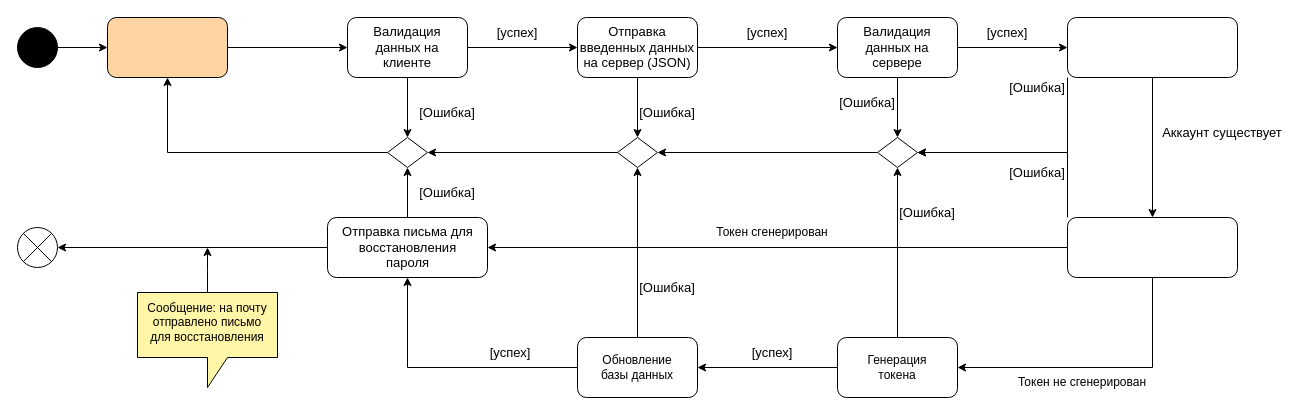
Image size: 1305x415. Some labels were removed from this diagram. Each missing label, with the box of its shape:
Проверка наличия аккаунта с введенным e-mail: (1066, 16, 1238, 78)
Проверка токена восстановления пароля: (1066, 216, 1238, 278)
Форма восстановления пароля: (106, 16, 228, 78)
